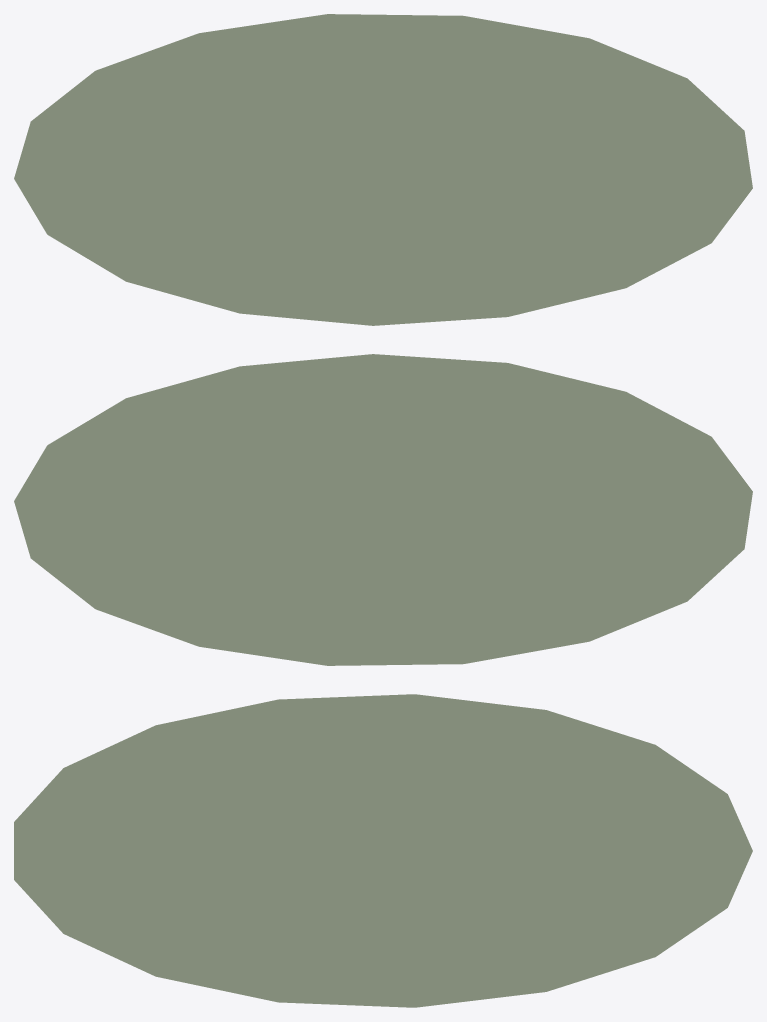
3 views of the same model, one above another, from view 1: azimuth 30°, elevation 25°; view 2: azimuth 150°, elevation 25°; view 3: azimuth 270°, elevation 25° (orthographic).
Visible parts, largest first — view 1: Circle; view 2: Circle; view 3: Circle.
Boxes of the visible parts, box(x1,y1,x2,y2) form: Circle: box(14, 14, 752, 325); Circle: box(14, 354, 752, 665); Circle: box(14, 694, 752, 1007).
Bounding box in the file's own units: 1.99 × 0 × 1.98.
